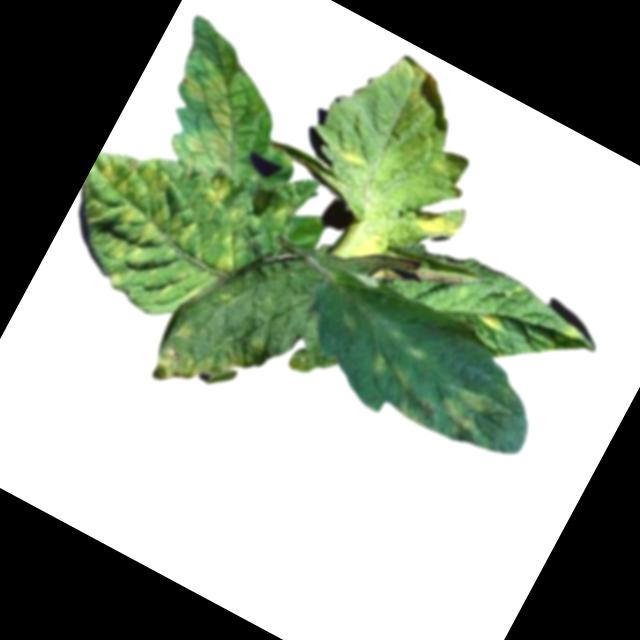Leaf_Mold: (44, 140, 259, 339), (130, 12, 295, 187), (144, 304, 272, 423), (393, 360, 514, 463), (379, 50, 442, 107), (405, 194, 466, 247), (362, 347, 414, 391), (197, 167, 238, 211), (472, 302, 509, 334), (339, 142, 371, 169)
